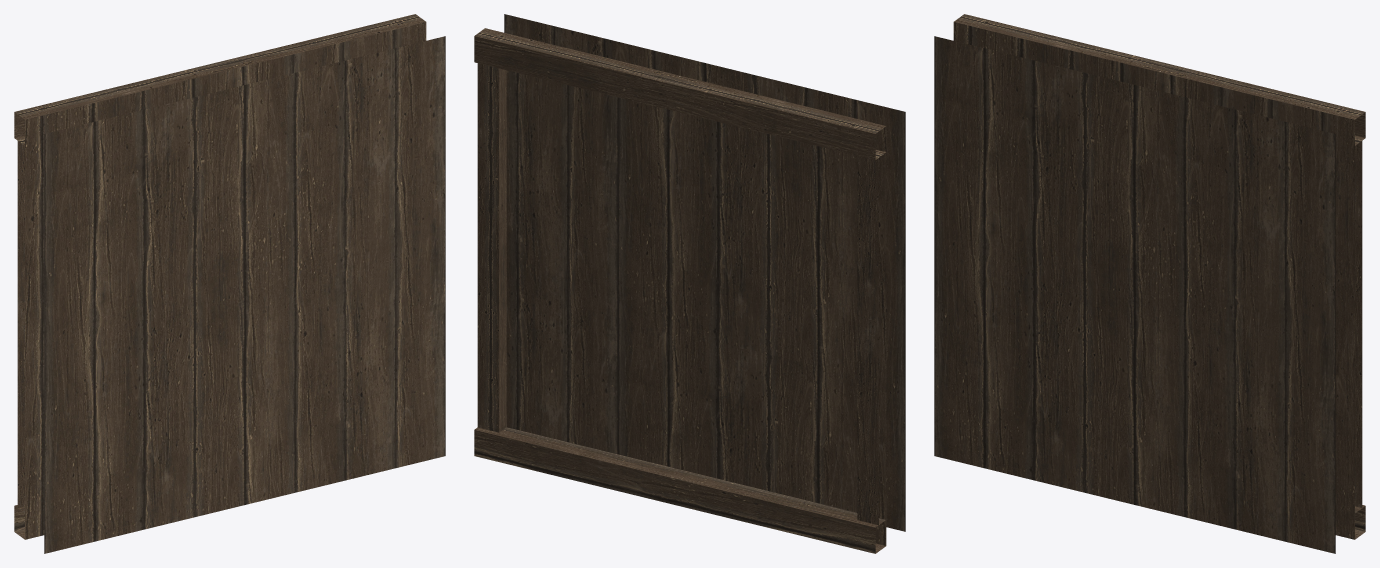
File: ARC1010276.fbx
3 views of the same model, side by side, from view 1: azimuth 30°, elevation 25°; view 2: azimuth 150°, elevation 25°; view 3: azimuth 330°, elevation 25° (orthographic).
Parts seen in each view (by area): view 1: smARC1010276; view 2: smARC1010276; view 3: smARC1010276.
Boxes of the visible parts, x1,y1,x2,y2 form: smARC1010276: (14,14,445,553); smARC1010276: (474,14,905,553); smARC1010276: (934,14,1365,553).
Bounding box in the file's own units: 268 × 268 × 34.9.
1 material, 1 textured.
